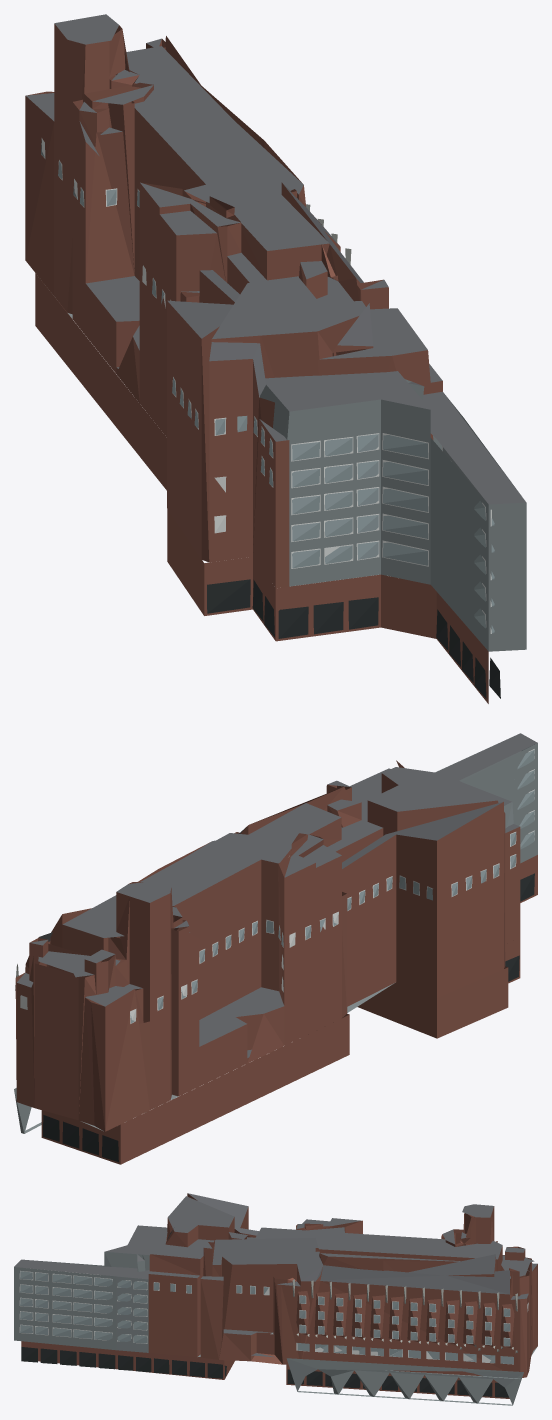
File: carlton-hotel.lod1.glb
3 renders of one model, top to bottom at view 1: azimuth 30°, elevation 25°; view 2: azimuth 150°, elevation 25°; view 3: azimuth 270°, elevation 25°, orthographic. The views are drawn at different scales.
Parts seen in each view (by area): view 1: carlton-hotel; view 2: carlton-hotel; view 3: carlton-hotel.
Part boxes in pixels (box(x1,y1,x2,y2)): carlton-hotel: box(25, 14, 526, 703); carlton-hotel: box(14, 733, 537, 1164); carlton-hotel: box(14, 1193, 537, 1405).
Size of the model in its own units: 39.34 by 38.8 by 113.
